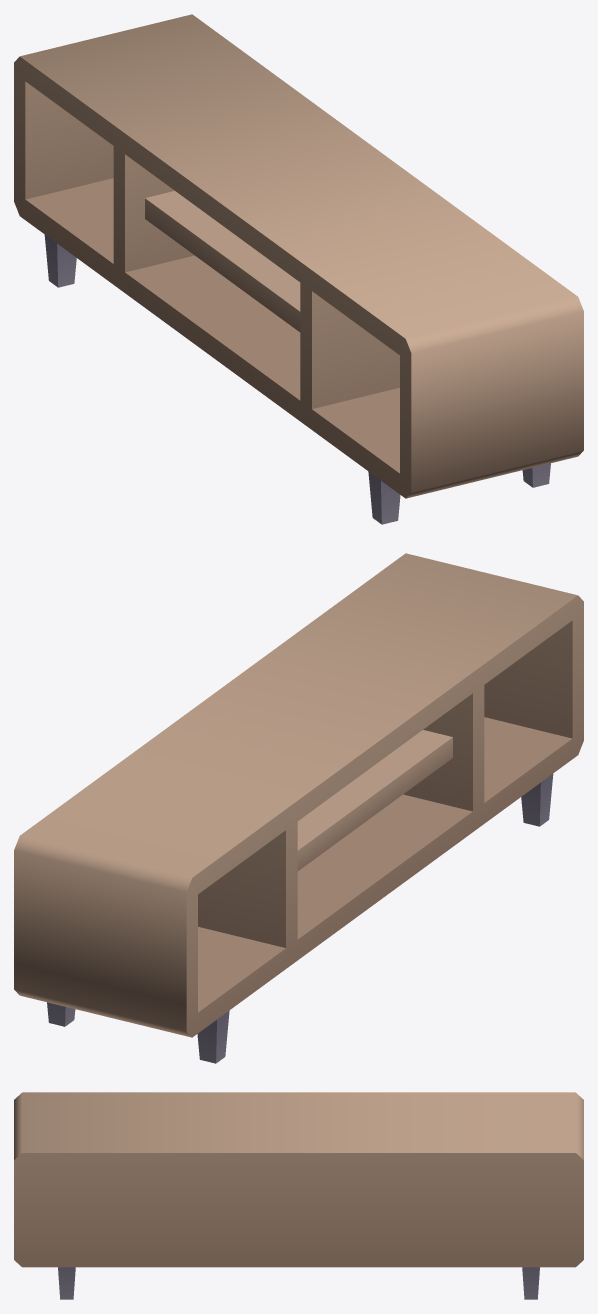
File: tv-cabinet (%thumbnail).glb
3 views of the same model, one above another, from view 1: azimuth 30°, elevation 25°; view 2: azimuth 150°, elevation 25°; view 3: azimuth 270°, elevation 25° (orthographic). The views are drawn at different scales.
Visible parts, largest first — view 1: tv-cabinet (%thumbnail); view 2: tv-cabinet (%thumbnail); view 3: tv-cabinet (%thumbnail).
Boxes of the visible parts, x1=… form: tv-cabinet (%thumbnail): x1=14, y1=14, x2=583, y2=524; tv-cabinet (%thumbnail): x1=14, y1=553, x2=583, y2=1063; tv-cabinet (%thumbnail): x1=14, y1=1092, x2=583, y2=1299.
Bounding box in the file's own units: 0.4 × 0.456 × 1.6.
